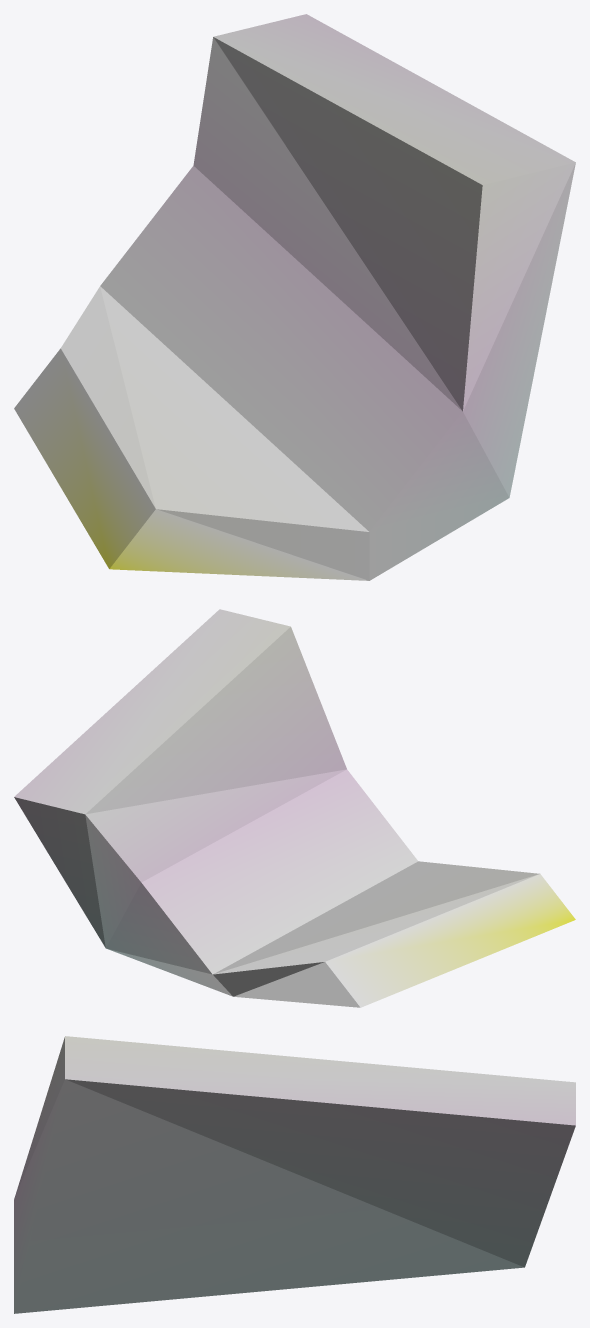
3 views of the same model, one above another, from view 1: azimuth 30°, elevation 25°; view 2: azimuth 150°, elevation 25°; view 3: azimuth 270°, elevation 25° (orthographic). The views are drawn at different scales.
Parts seen in each view (by area): view 1: model_11B2; view 2: model_11B2; view 3: model_11B2.
Boxes of the visible parts, box(x1,y1,x2,y2) form: model_11B2: box(14, 14, 575, 580); model_11B2: box(14, 609, 575, 1007); model_11B2: box(14, 1036, 575, 1313).
Bounding box in the file's own units: 10 × 7 × 11.
